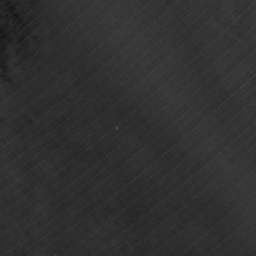Target: (114, 126, 120, 132)
